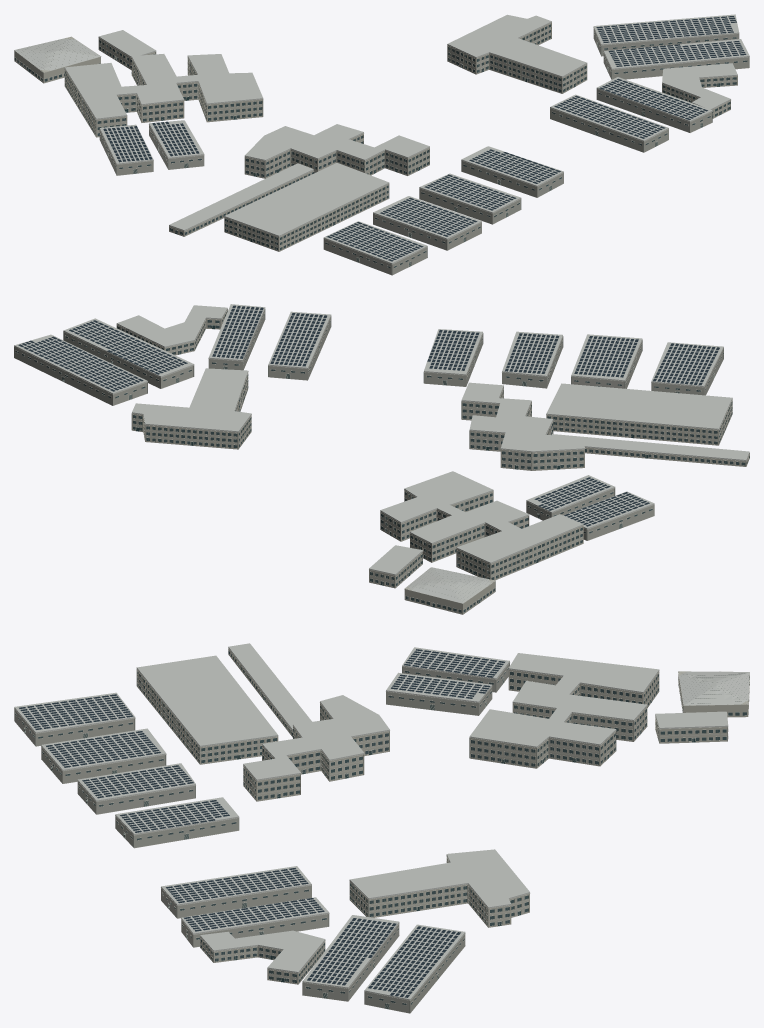
File: UMPSA-Pekan-academic.glb
3 renders of one model, top to bottom at view 1: azimuth 30°, elevation 25°; view 2: azimuth 150°, elevation 25°; view 3: azimuth 270°, elevation 25°, orthographic. The views are drawn at different scales.
Parts seen in each view (by area): view 1: Fakulti Teknologi Kejuruteraan Elektrik dan Elektronik (FTKE, FTKMA west teaching block - campus exterior, Fakulti Teknologi Kejuruteraan Mekanikal dan Automotif (FTKM, Faculty of Engineering Technology - main block - campus exte, Engineering Technology solar laboratory - east - campus exte, Engineering Technology solar laboratory - north - campus ext, FTKMA solar workshop B - campus exterior, Engineering Technology solar laboratory - west - campus exte, FTKMA solar workshop A - campus exterior, Engineering Technology solar laboratory - south - campus ext, FTKMA solar workshop C - campus exterior, FTKMA solar workshop D - campus exterior (+6 smaller); view 2: Fakulti Teknologi Kejuruteraan Elektrik dan Elektronik (FTKE, FTKMA west teaching block - campus exterior, Fakulti Teknologi Kejuruteraan Mekanikal dan Automotif (FTKM, Faculty of Engineering Technology - main block - campus exte, Engineering Technology solar laboratory - north - campus ext, Engineering Technology solar laboratory - east - campus exte, FTKMA solar workshop B - campus exterior, Engineering Technology solar laboratory - west - campus exte, FTKMA solar workshop A - campus exterior, FTKEE teaching hall - campus exterior, FTKMA covered teaching connector - campus exterior, Engineering Technology stepped annex - campus exterior (+6 smaller); view 3: Fakulti Teknologi Kejuruteraan Elektrik dan Elektronik (FTKE, FTKMA west teaching block - campus exterior, Faculty of Engineering Technology - main block - campus exte, Fakulti Teknologi Kejuruteraan Mekanikal dan Automotif (FTKM, Engineering Technology solar laboratory - north - campus ext, Engineering Technology solar laboratory - west - campus exte, Engineering Technology solar laboratory - east - campus exte, FTKMA solar workshop B - campus exterior, FTKMA solar workshop A - campus exterior, FTKMA solar workshop D - campus exterior, FTKMA solar workshop C - campus exterior, Engineering Technology stepped annex - campus exterior (+6 smaller).
Part boxes in pixels (x1,y1,x2,y2): Fakulti Teknologi Kejuruteraan Elektrik dan Elektronik (FTKE: (64,54,263,137); FTKMA west teaching block - campus exterior: (224,162,389,251); Fakulti Teknologi Kejuruteraan Mekanikal dan Automotif (FTKM: (244,124,429,178); Faculty of Engineering Technology - main block - campus exte: (447,14,587,93); Engineering Technology solar laboratory - east - campus exte: (603,39,749,79); Engineering Technology solar laboratory - north - campus ext: (593,14,739,56); FTKMA solar workshop B - campus exterior: (373,196,481,250); Engineering Technology solar laboratory - west - campus exte: (550,94,668,152); FTKMA solar workshop A - campus exterior: (323,221,427,275); Engineering Technology solar laboratory - south - campus ext: (596,77,712,132); FTKMA solar workshop C - campus exterior: (419,173,521,224); FTKMA solar workshop D - campus exterior: (461,146,563,197); Fakulti Teknologi Kejuruteraan Elektrik dan Elektronik (FTKE: (380,471,583,580); FTKMA west teaching block - campus exterior: (546,383,732,445); Fakulti Teknologi Kejuruteraan Mekanikal dan Automotif (FTKM: (461,382,584,470); Faculty of Engineering Technology - main block - campus exte: (131,368,251,449); Engineering Technology solar laboratory - north - campus ext: (14,334,147,405); Engineering Technology solar laboratory - east - campus exte: (63,318,194,388); FTKMA solar workshop B - campus exterior: (571,334,642,388); Engineering Technology solar laboratory - west - campus exte: (268,311,331,380); FTKMA solar workshop A - campus exterior: (651,342,723,395); FTKEE teaching hall - campus exterior: (404,567,495,614); FTKMA covered teaching connector - campus exterior: (551,434,749,466); Engineering Technology stepped annex - campus exterior: (116,305,227,355); Fakulti Teknologi Kejuruteraan Elektrik dan Elektronik (FTKE: (469,653,659,768); FTKMA west teaching block - campus exterior: (136,655,278,764); Faculty of Engineering Technology - main block - campus exte: (349,849,530,927); Fakulti Teknologi Kejuruteraan Mekanikal dan Automotif (FTKM: (243,695,389,801); Engineering Technology solar laboratory - north - campus ext: (364,924,465,1013); Engineering Technology solar laboratory - west - campus exte: (161,866,311,918); Engineering Technology solar laboratory - east - campus exte: (302,915,399,1001); FTKMA solar workshop B - campus exterior: (41,728,166,783); FTKMA solar workshop A - campus exterior: (14,692,135,746); FTKMA solar workshop D - campus exterior: (115,797,239,848); FTKMA solar workshop C - campus exterior: (77,763,195,814); Engineering Technology stepped annex - campus exterior: (200,930,325,984).
Bounding box in the file's own units: 492 × 13.99 × 422.
